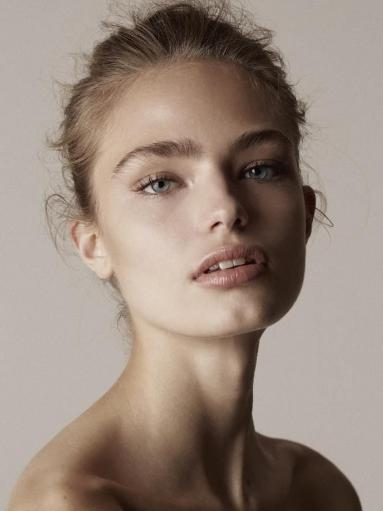left_eye: (239, 162, 285, 186)
left_lip_corner: (248, 252, 276, 275)
right_eye: (131, 176, 187, 203)
right_lip_corner: (187, 272, 203, 290)
